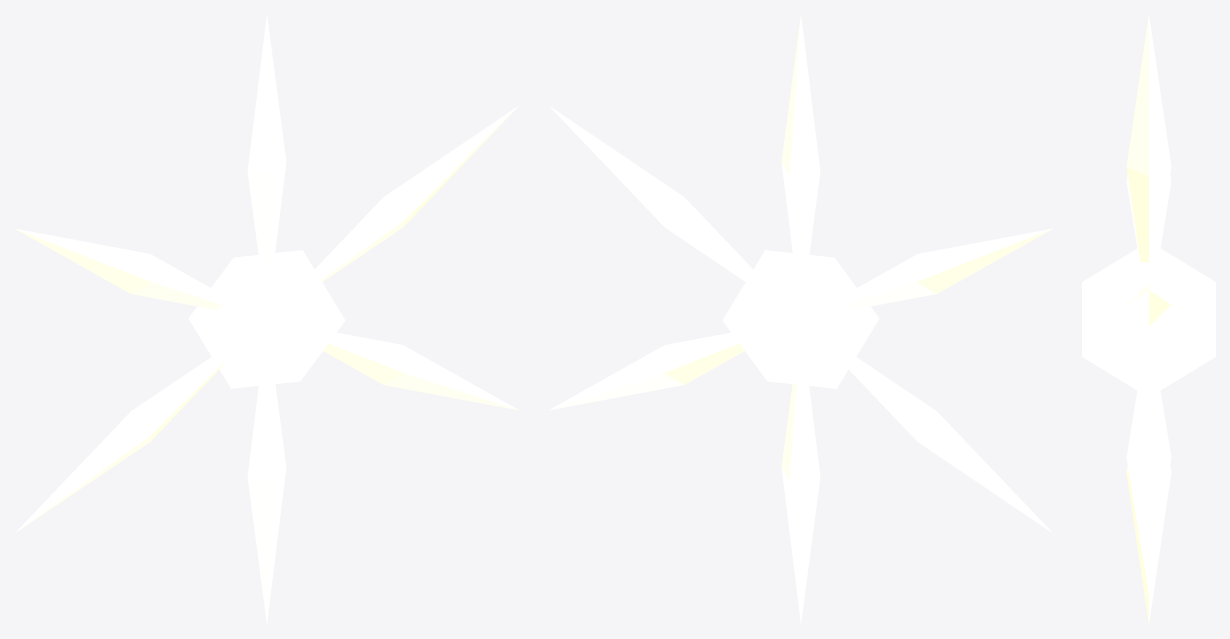
The model's file is fx_hit_spark.glb.
3 renders of one model, left to right at view 1: azimuth 30°, elevation 25°; view 2: azimuth 150°, elevation 25°; view 3: azimuth 270°, elevation 25°, orthographic.
Parts seen in each view (by area): view 1: rays_spark, core_sparkCore; view 2: rays_spark, core_sparkCore; view 3: rays_spark, core_sparkCore.
Part boxes in pixels (left/top/right/bottom): rays_spark: left=15, top=15, right=518, bottom=623; core_sparkCore: left=188, top=250, right=345, bottom=388; rays_spark: left=549, top=15, right=1052, bottom=623; core_sparkCore: left=722, top=250, right=879, bottom=388; rays_spark: left=1126, top=15, right=1171, bottom=623; core_sparkCore: left=1082, top=248, right=1215, bottom=389.
Bounding box in the file's own units: 0.5196 × 0.6 × 0.1191.
